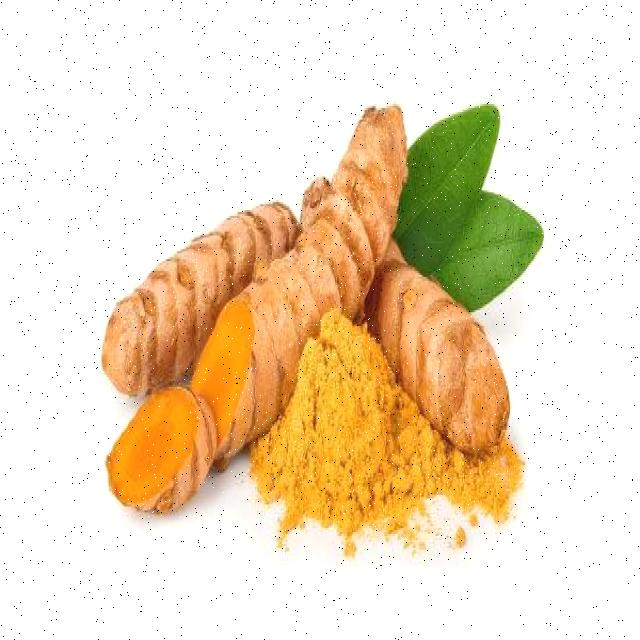turmeric: (81, 86, 414, 504), (371, 232, 518, 454)
